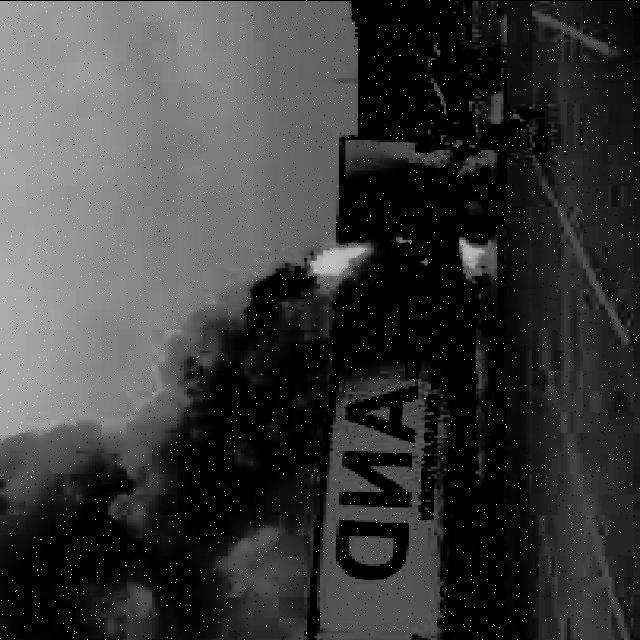api: (299, 207, 505, 331)
